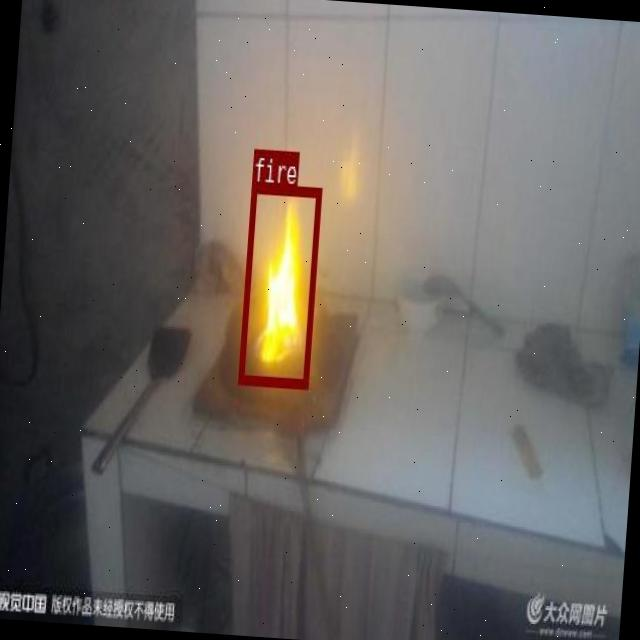fire: (238, 182, 320, 386)
